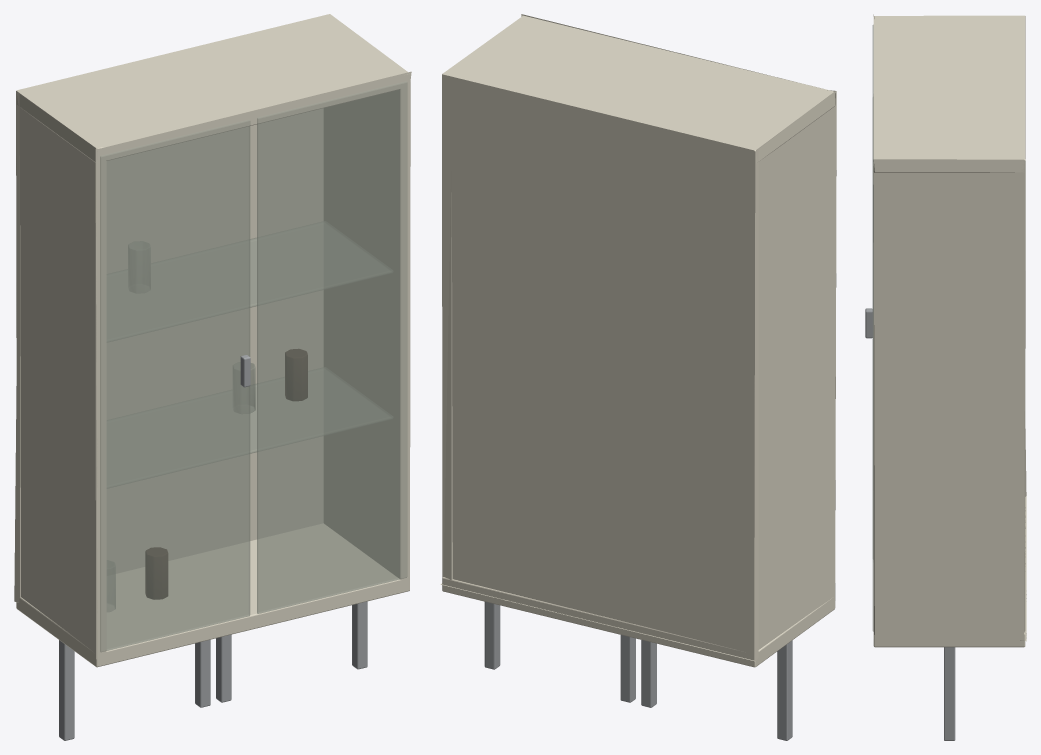
File: PROP_Cabinet_Instrument_Glass.glb
3 views of the same model, side by side, from view 1: azimuth 30°, elevation 25°; view 2: azimuth 150°, elevation 25°; view 3: azimuth 270°, elevation 25° (orthographic). The views are drawn at different scales.
Visible parts, largest first — view 1: PROP_Cabinet_Instrument_Glass_Mesh; view 2: PROP_Cabinet_Instrument_Glass_Mesh; view 3: PROP_Cabinet_Instrument_Glass_Mesh.
Part boxes in pixels (box(x1,y1,x2,y2)): PROP_Cabinet_Instrument_Glass_Mesh: box(14, 14, 411, 740); PROP_Cabinet_Instrument_Glass_Mesh: box(440, 14, 836, 740); PROP_Cabinet_Instrument_Glass_Mesh: box(865, 14, 1026, 740).
Size of what is drawn, in the model's own units: 0.906 by 1.7 by 0.425.
